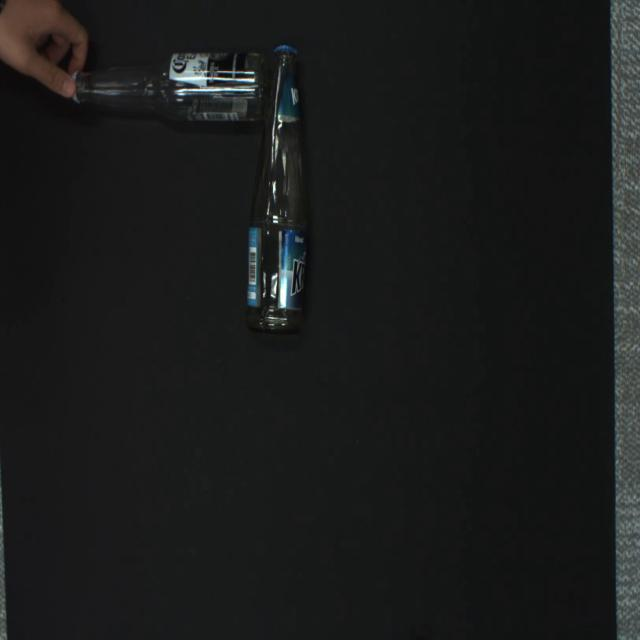beer-bottle: (244, 45, 308, 335), (71, 53, 271, 122)
